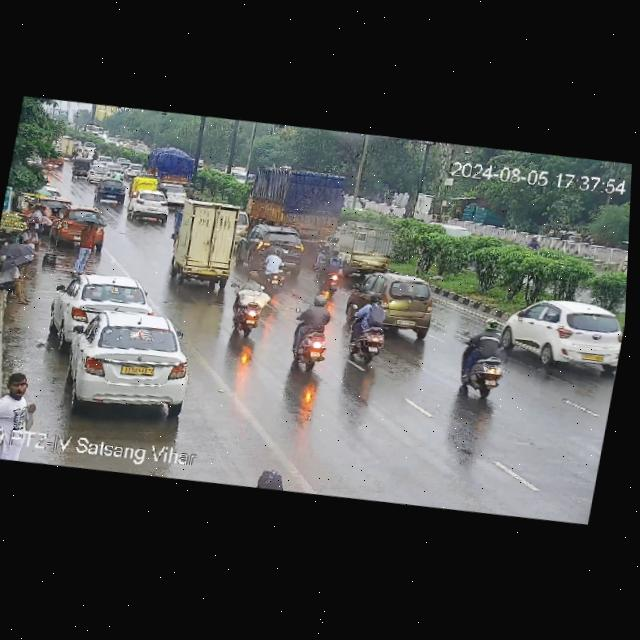car: (60, 304, 202, 418), (492, 288, 626, 375), (51, 267, 157, 343), (347, 267, 446, 340), (239, 220, 305, 279), (50, 201, 109, 250), (123, 196, 172, 226), (93, 174, 129, 206), (155, 183, 191, 210), (130, 174, 160, 196), (69, 157, 92, 181), (122, 162, 147, 179), (88, 163, 110, 181)
motorcycle: (458, 309, 518, 403), (339, 285, 393, 369), (288, 285, 335, 369), (228, 277, 276, 344), (0, 264, 36, 309), (320, 244, 348, 300), (262, 244, 292, 296), (321, 231, 342, 262), (45, 155, 57, 173)
person: (0, 368, 42, 427), (73, 218, 100, 277), (20, 200, 55, 243), (17, 218, 41, 279)
truck: (166, 199, 250, 293), (248, 164, 341, 239), (333, 218, 397, 273), (148, 144, 196, 185)
